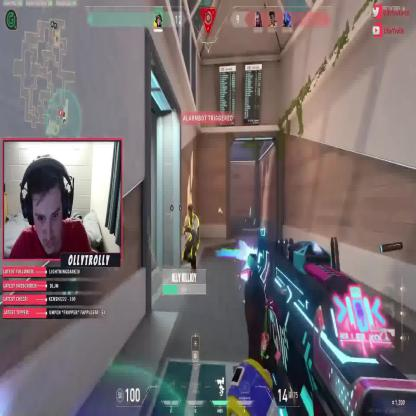enemy: (179, 204, 201, 274)
enemy_head: (187, 204, 193, 221)
